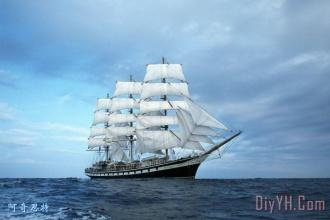fanchuan: (82, 58, 233, 180)
